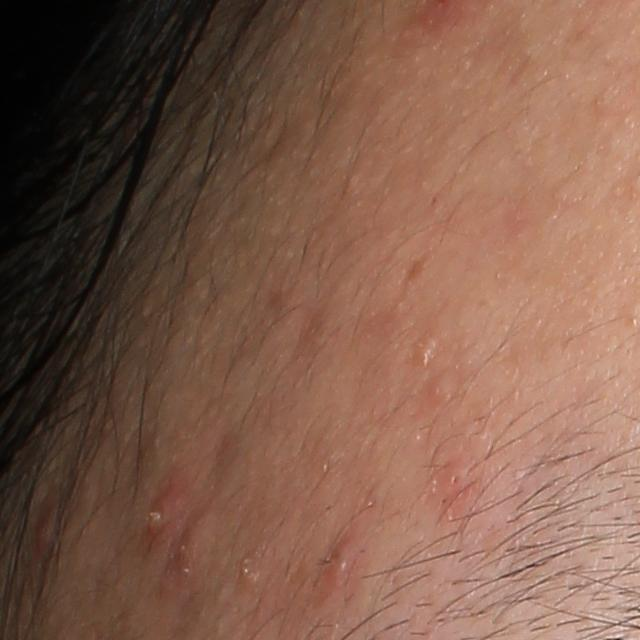comedo: (414, 338, 443, 365), (431, 376, 456, 403)
papule: (167, 511, 211, 585), (318, 534, 360, 593), (31, 504, 56, 558)
